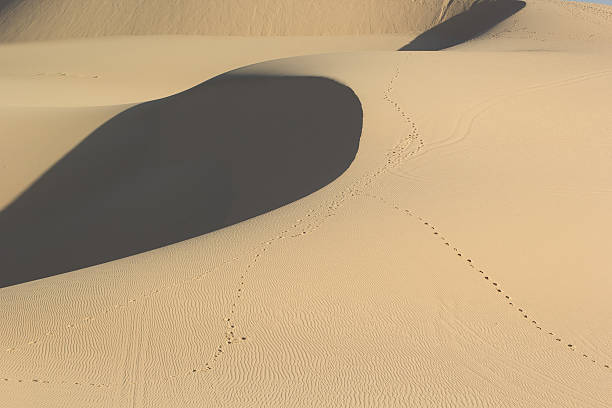animal_foot_print: (191, 68, 423, 372), (4, 257, 237, 351), (169, 243, 267, 377), (442, 239, 513, 305), (383, 67, 423, 169), (0, 376, 110, 388)
